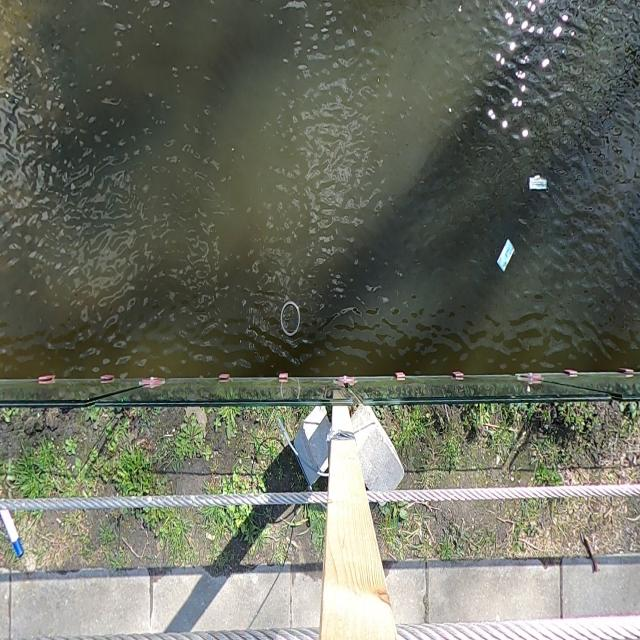Autre plastique: (278, 296, 307, 345)
Non plastique: (528, 176, 549, 197)
